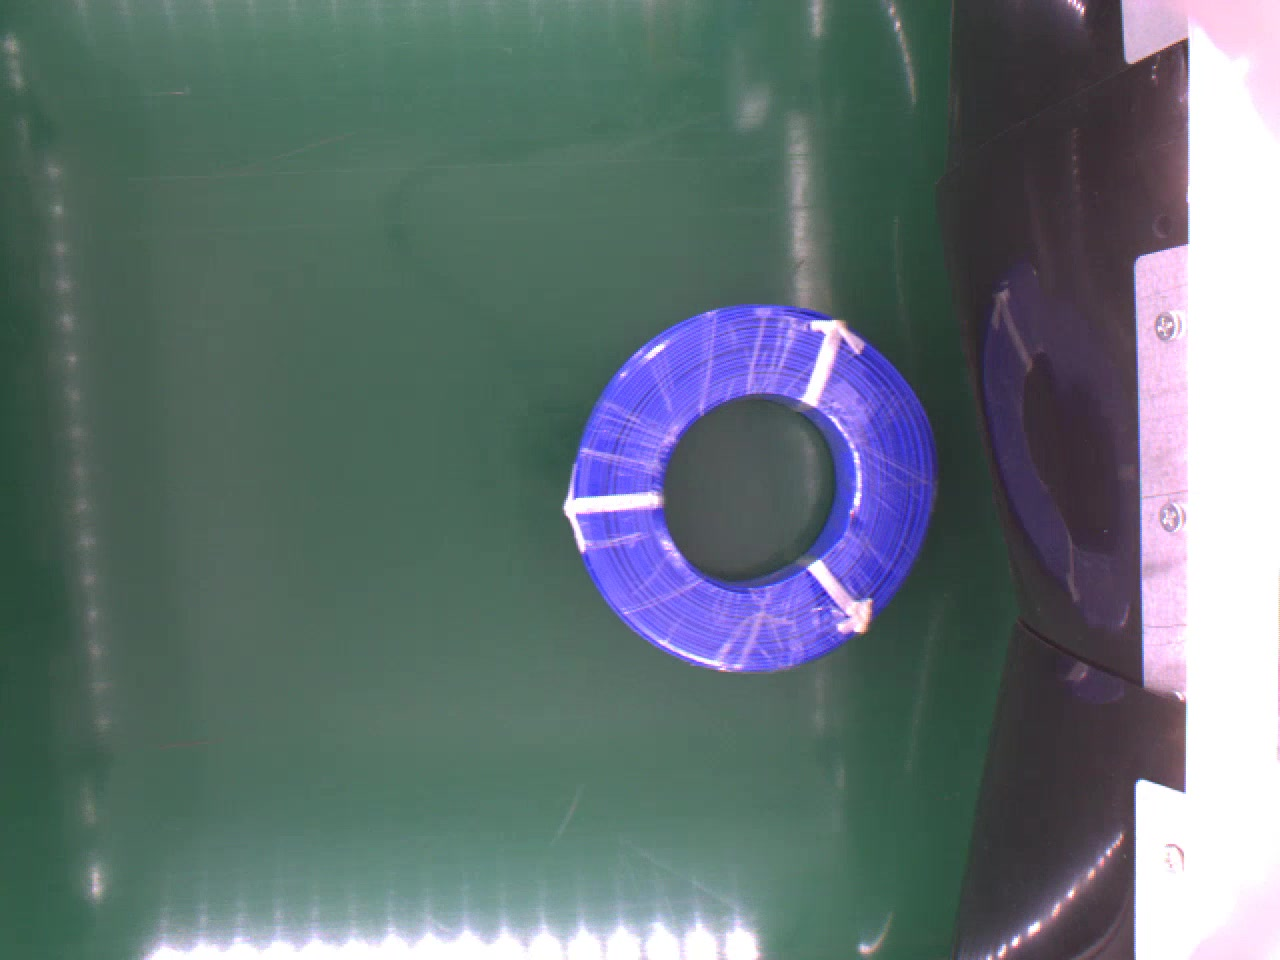blue: (568, 299, 937, 675)
